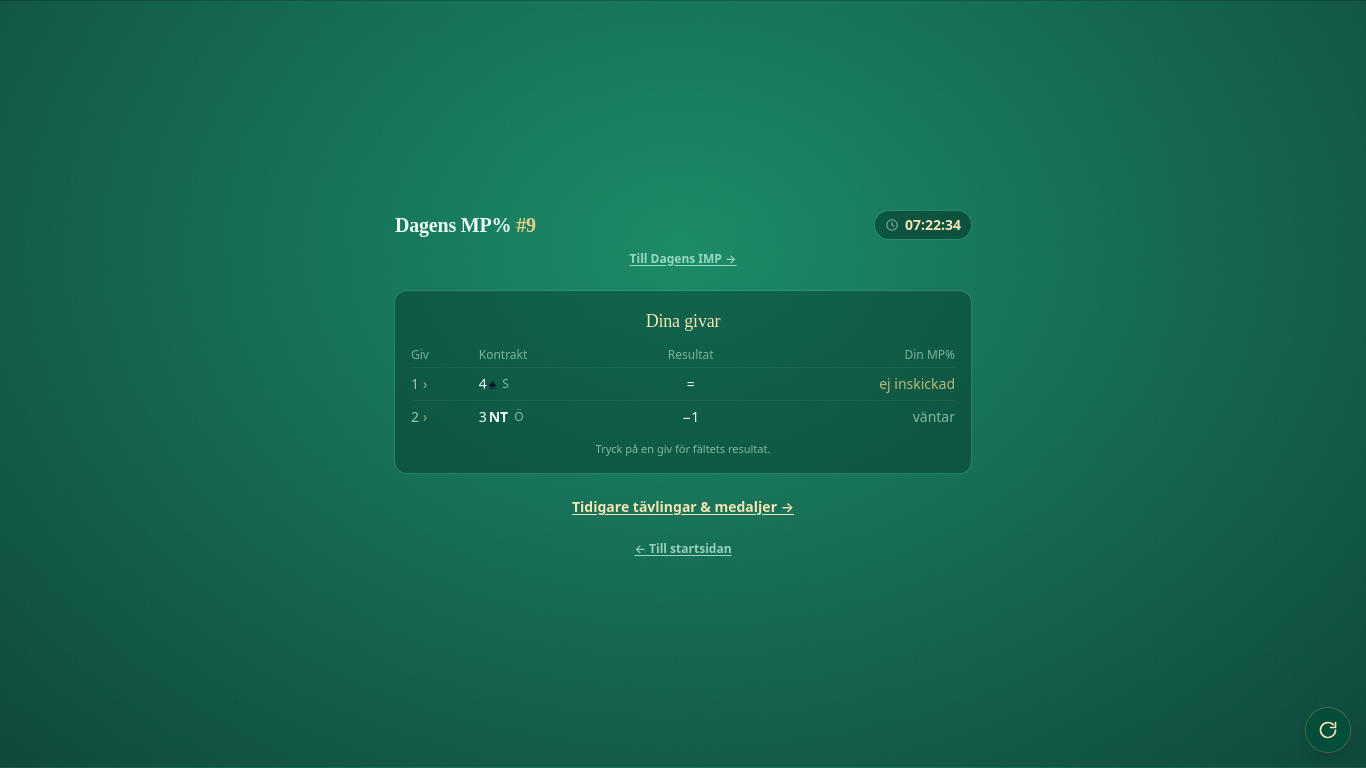
Scenario: Dagens tävling — hämtningens utfall (inloggad) › resultattabellen: varje spelad giv är klickbar → fältets resultat (travellern)
This screenshot has width=1366, height=768.
Expected: the heading "Dina givar" is shown, [646,311,720,331]
Note: Klick på giv 1 → detaljvyn hämtar och visar travellern.
What coordinates should you click on to do the following:
click the button titled "Visa fältets resultat"
I would click on:
 (917, 383)
Its box is [411,367,955,400].
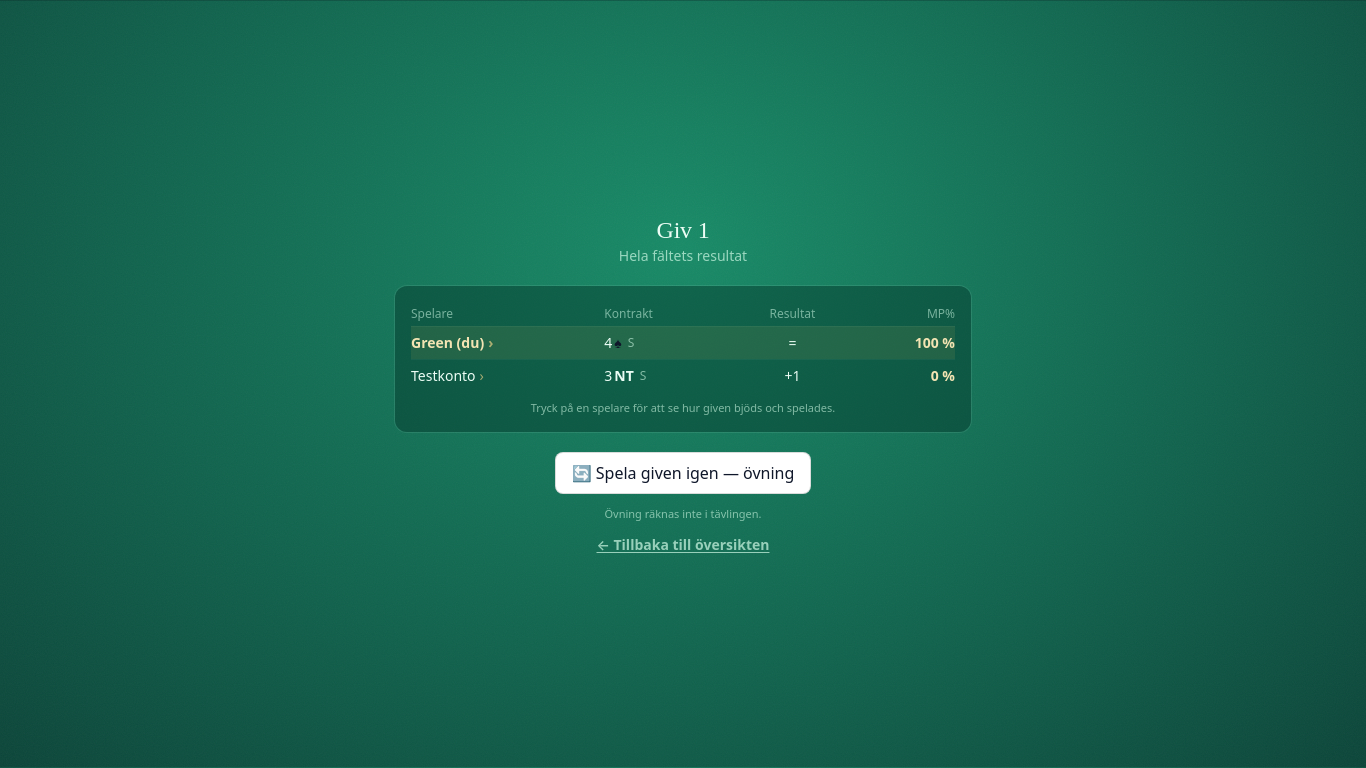
Expected: the text "Hela fältets resultat" is shown, [619,246,747,264]
Expected: the text "Testkonto" is shown, [411,366,476,384]
Expected: the text "Green (du)›" is shown, [411,326,596,359]
